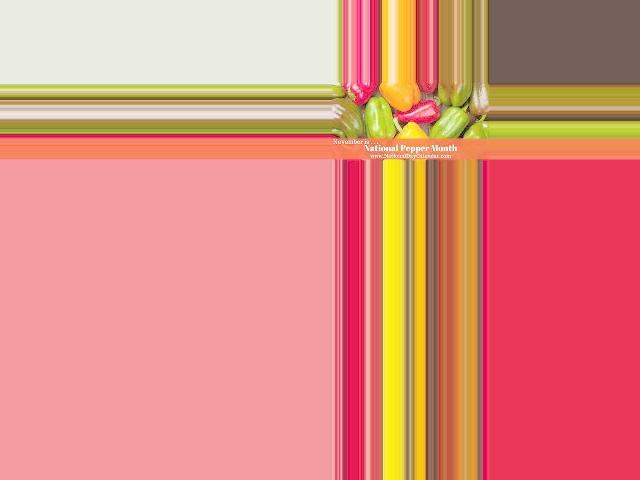bell_pepper: (332, 98, 363, 138)
